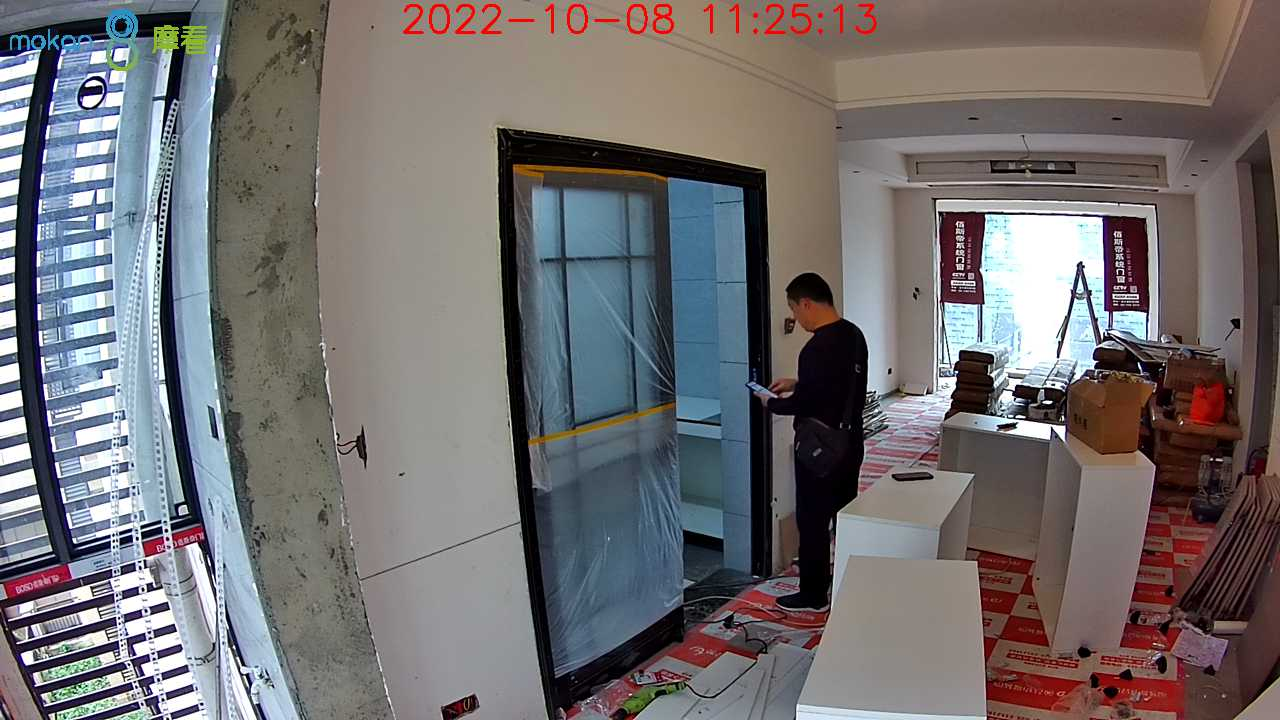people: (752, 273, 868, 612)
window: (932, 210, 1152, 374)
